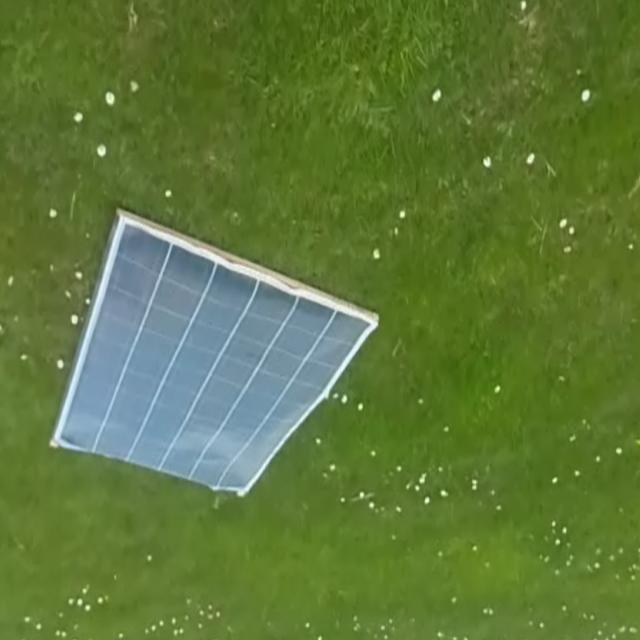no faulty: (54, 208, 376, 492)
